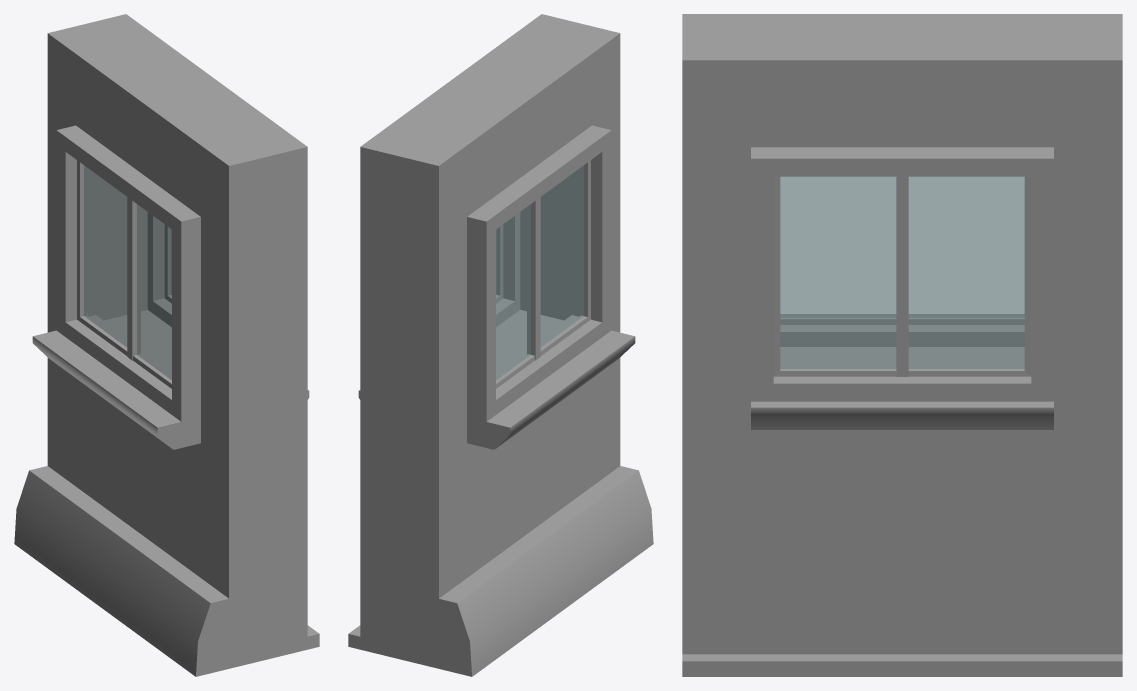
File: SM_Wall_Window_Glass_NoTop.fbx
3 views of the same model, side by side, from view 1: azimuth 30°, elevation 25°; view 2: azimuth 150°, elevation 25°; view 3: azimuth 270°, elevation 25° (orthographic). The views are drawn at different scales.
Parts seen in each view (by area): view 1: SM_Wall_Window_Glass_NoTop; view 2: SM_Wall_Window_Glass_NoTop; view 3: SM_Wall_Window_Glass_NoTop.
Part boxes in pixels (x1,y1,x2,y2): SM_Wall_Window_Glass_NoTop: (14, 14, 319, 676); SM_Wall_Window_Glass_NoTop: (348, 14, 653, 676); SM_Wall_Window_Glass_NoTop: (682, 14, 1122, 676).
Size of the model in its own units: 0.9653 by 3.06 by 2.
